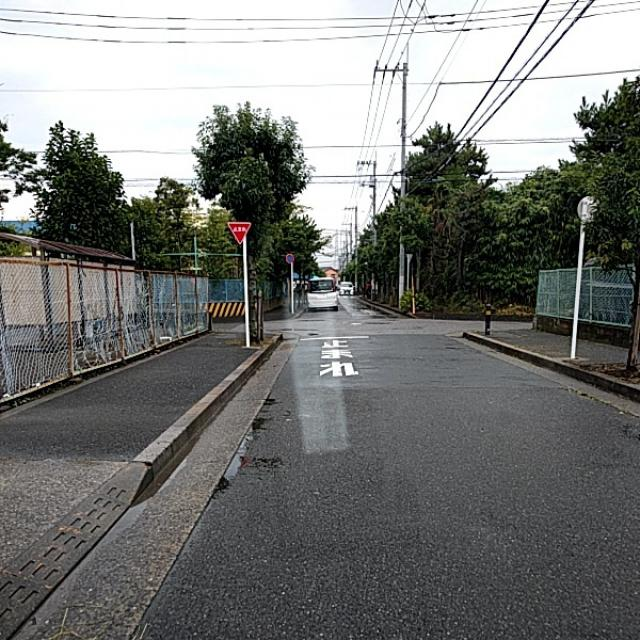pothole: (212, 467, 307, 514)
